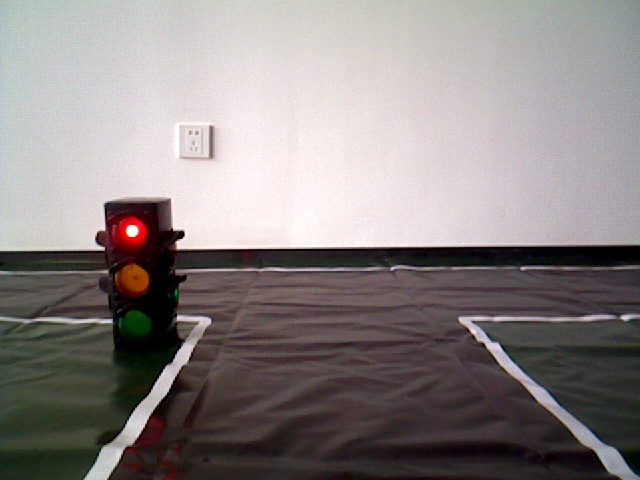red: (105, 205, 172, 352)
